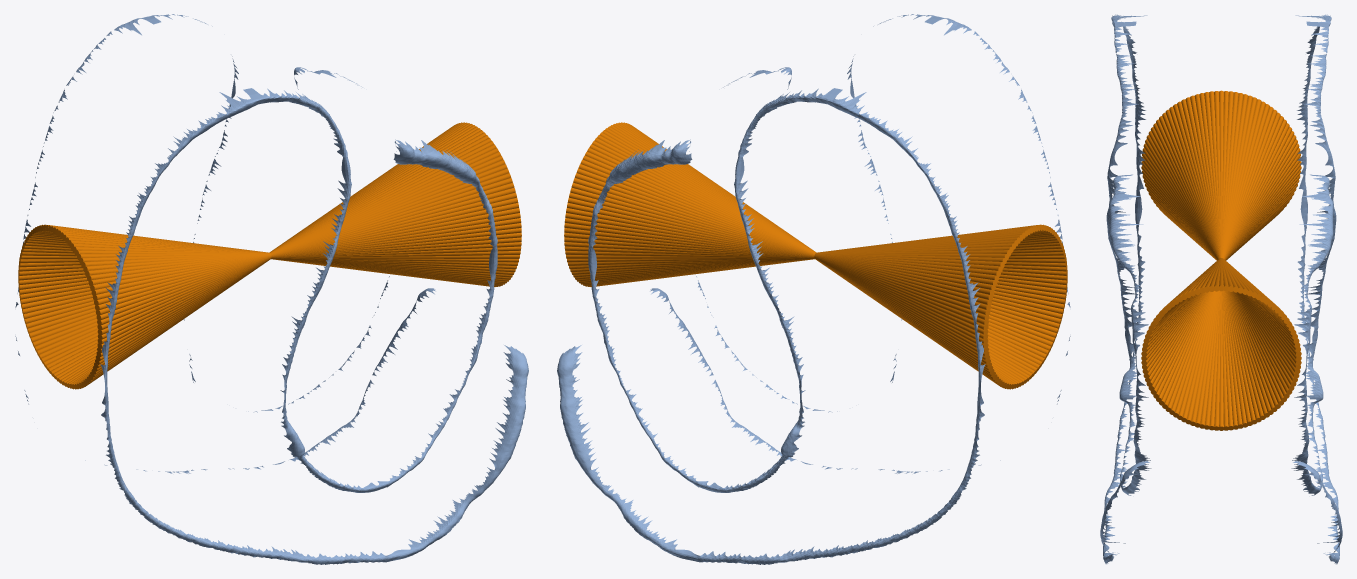
The model's file is A20024962_5995-37-531-2352_DigitalTwin.glb.
3 views of the same model, side by side, from view 1: azimuth 30°, elevation 25°; view 2: azimuth 150°, elevation 25°; view 3: azimuth 270°, elevation 25° (orthographic). The views are drawn at different scales.
Visible parts, largest first — view 1: world; view 2: world; view 3: world.
Part boxes in pixels (x1,y1,x2,y2): world: (15,14,528,564); world: (557,14,1070,564); world: (1100,14,1342,564).
Size of the model in its own units: 307 by 341 by 160.
